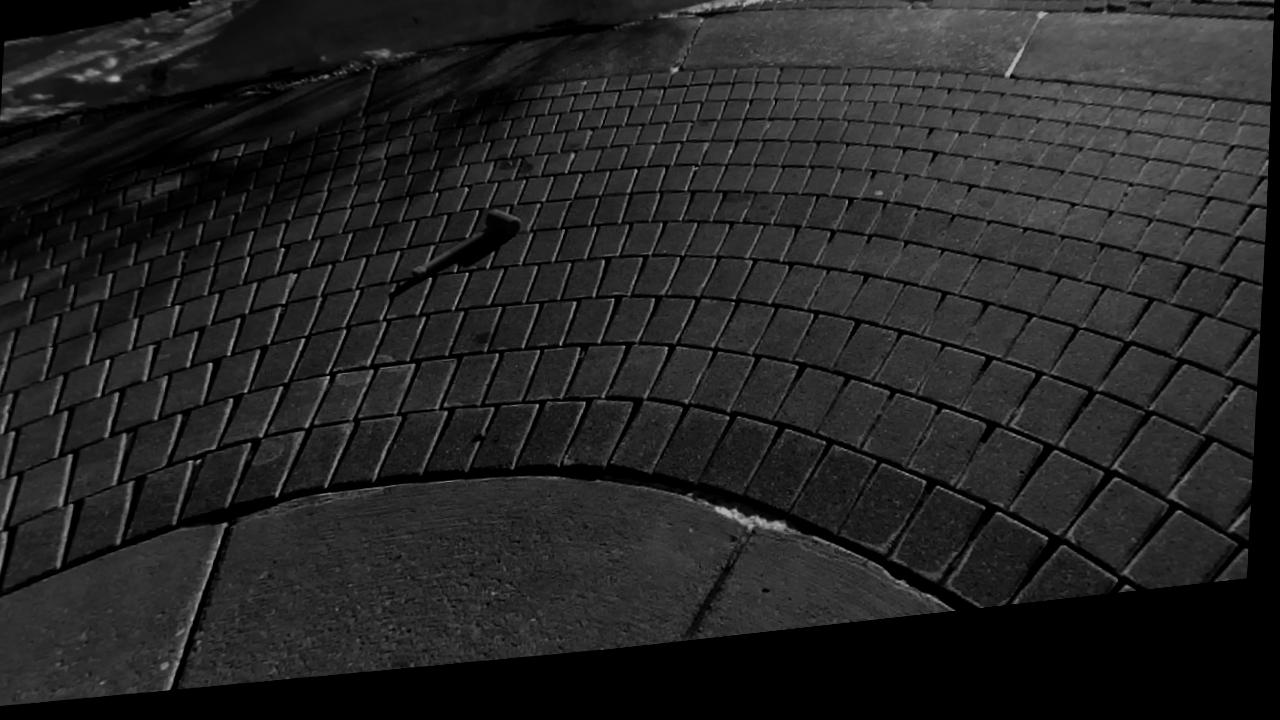mallet: (412, 210, 523, 279)
